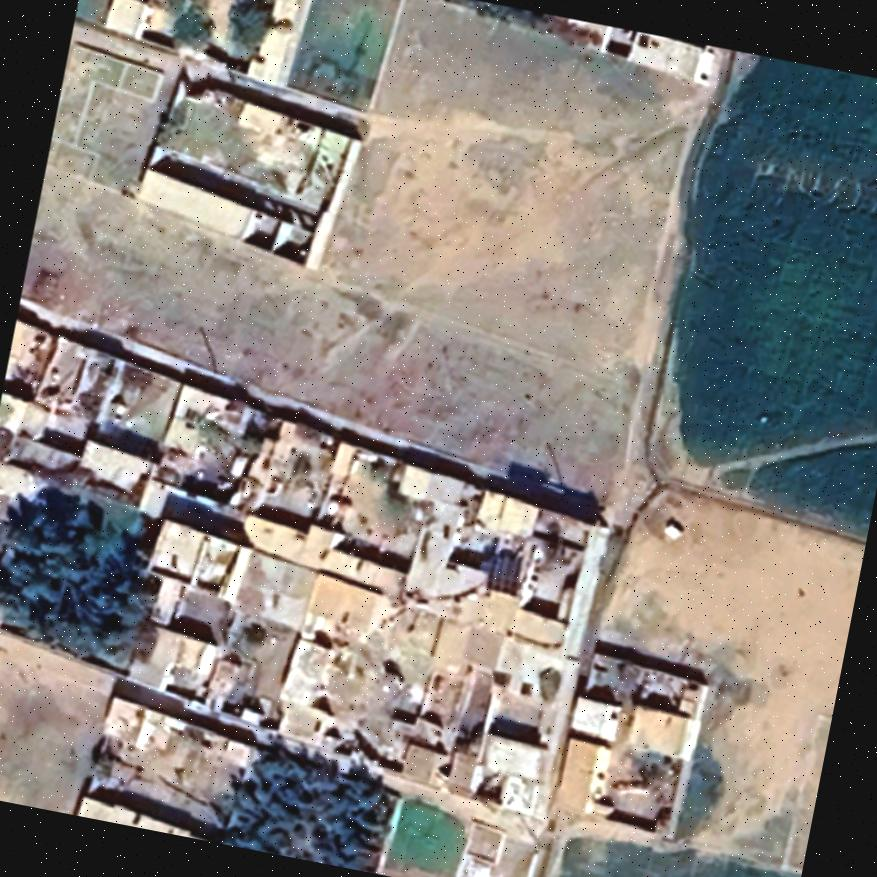Solarpanel: (479, 542, 531, 600)
